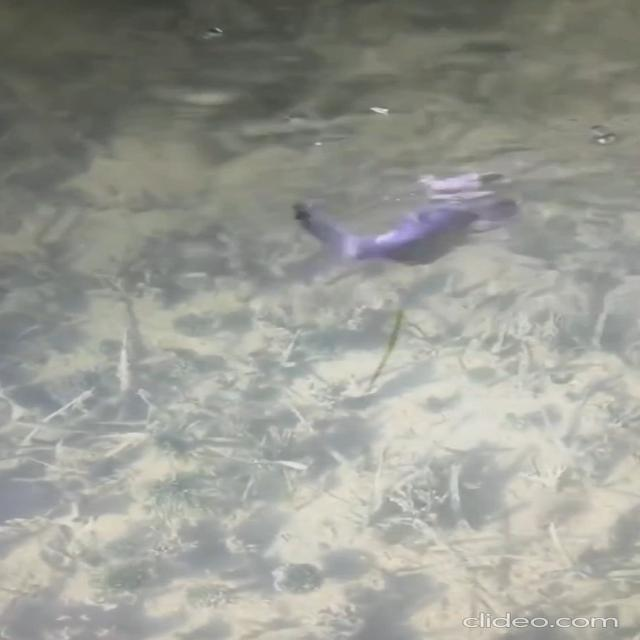fish: (267, 206, 535, 276)
